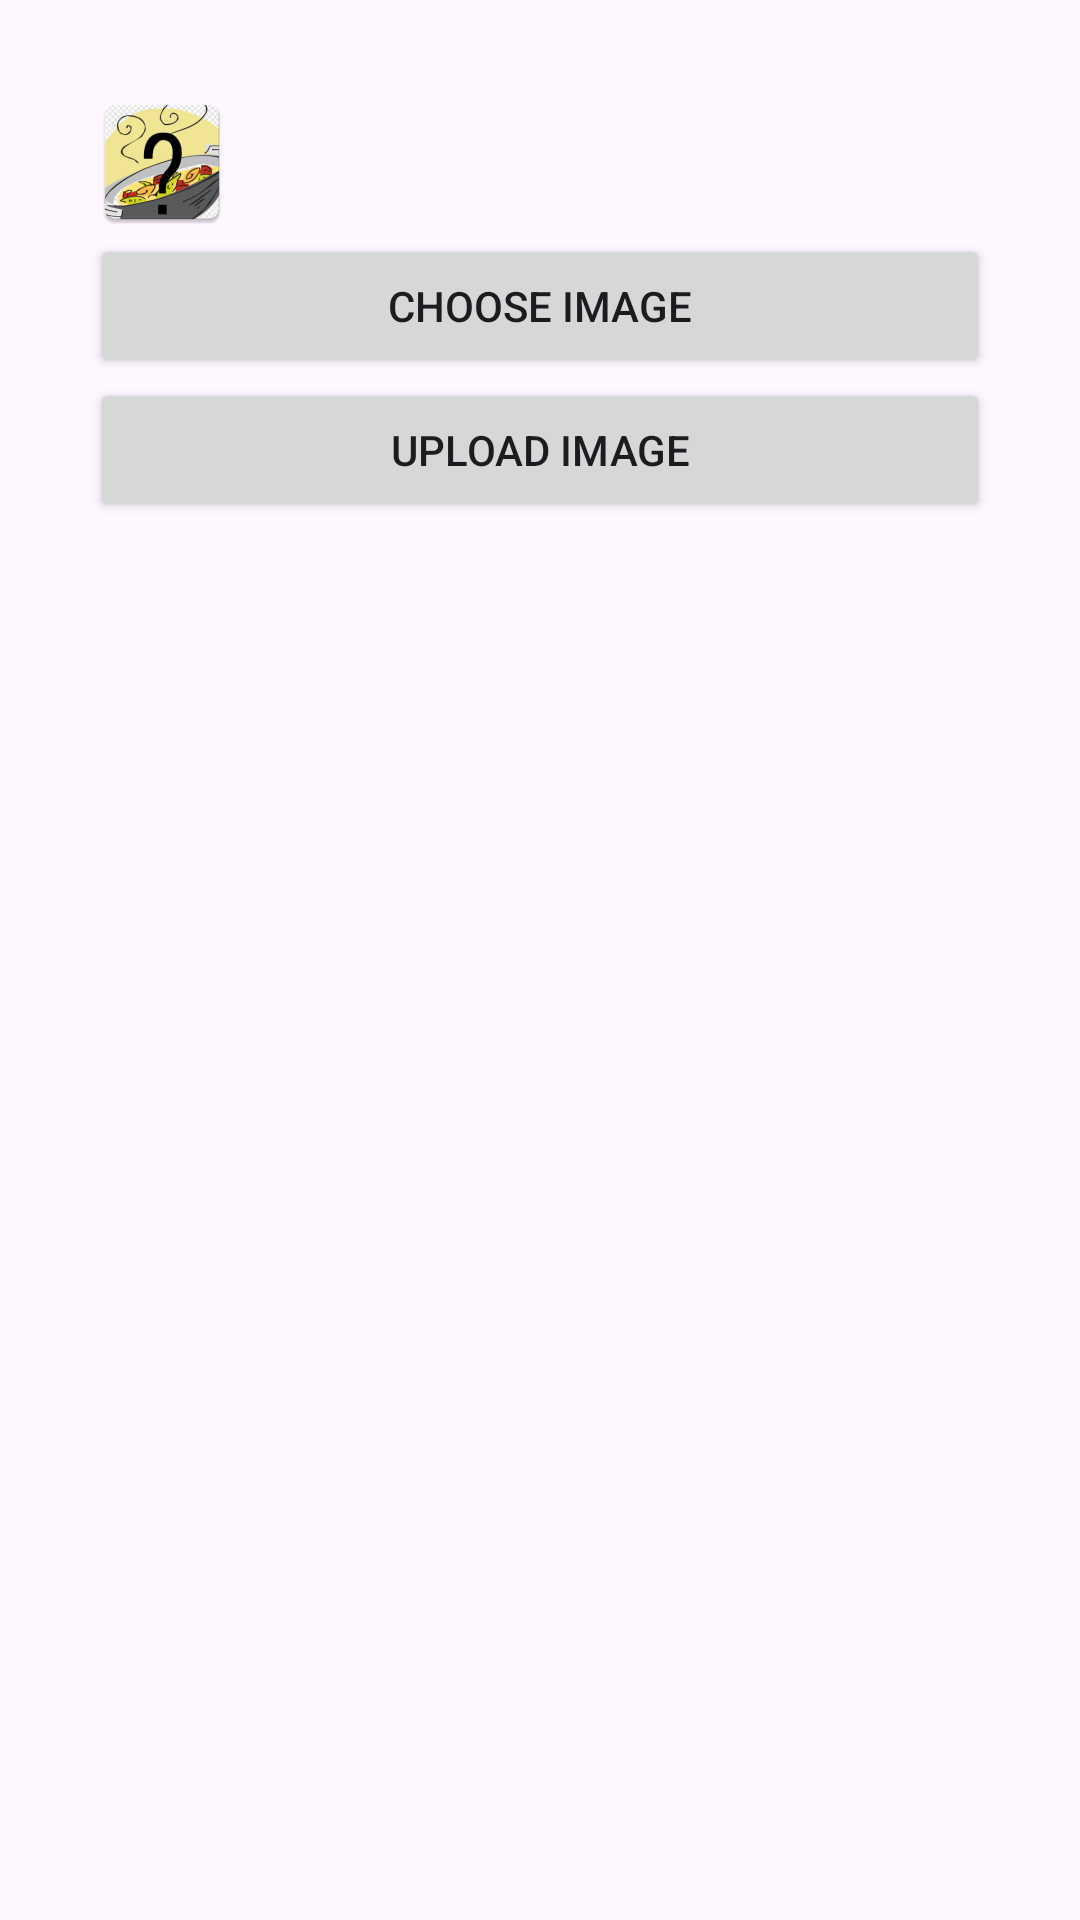

Icons on this 1080px x 1920px Android screen, each with its box as (x1, y1, x2, y2):
food: (104, 105, 220, 223)
